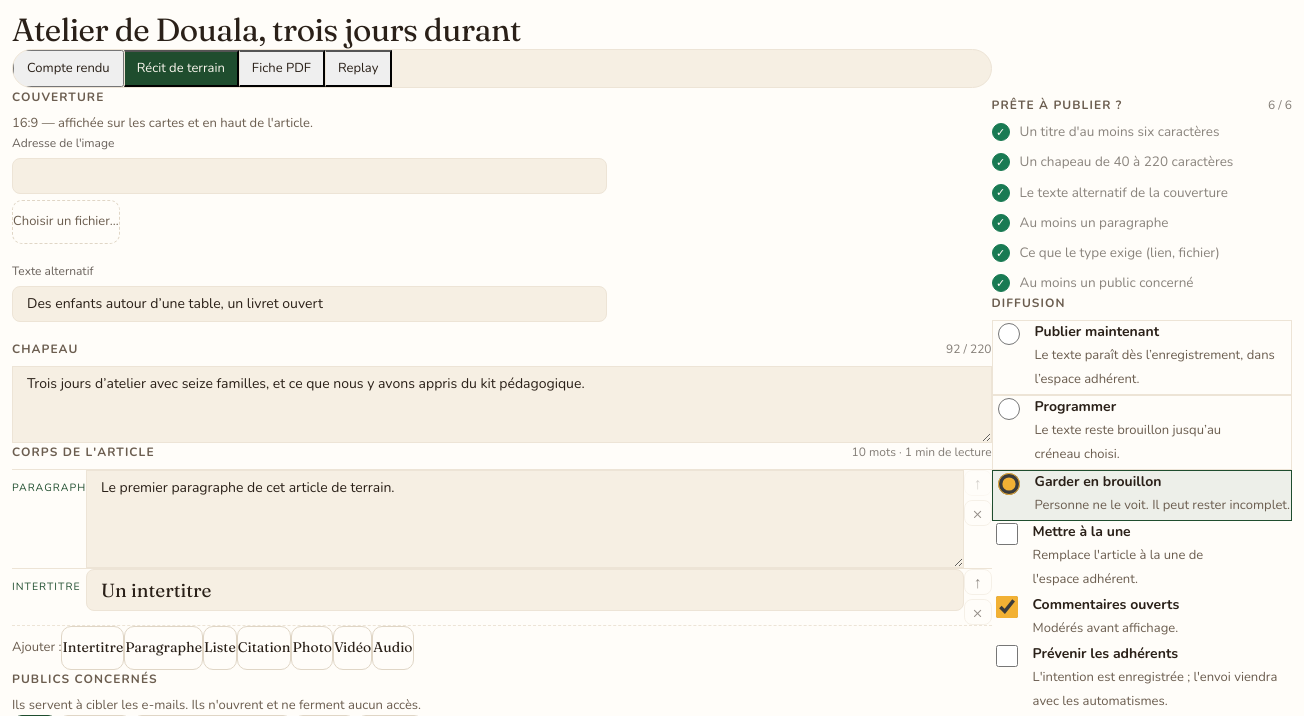
Test: les blocs du corps › SUPPRIME le bloc visé, et lui seul
What coordinates should you click on to do the following:
click the button named "Supprimer ce bloc"
I would click on:
 (978, 612)
Its box is x1=964 y1=599 x2=992 y2=625.
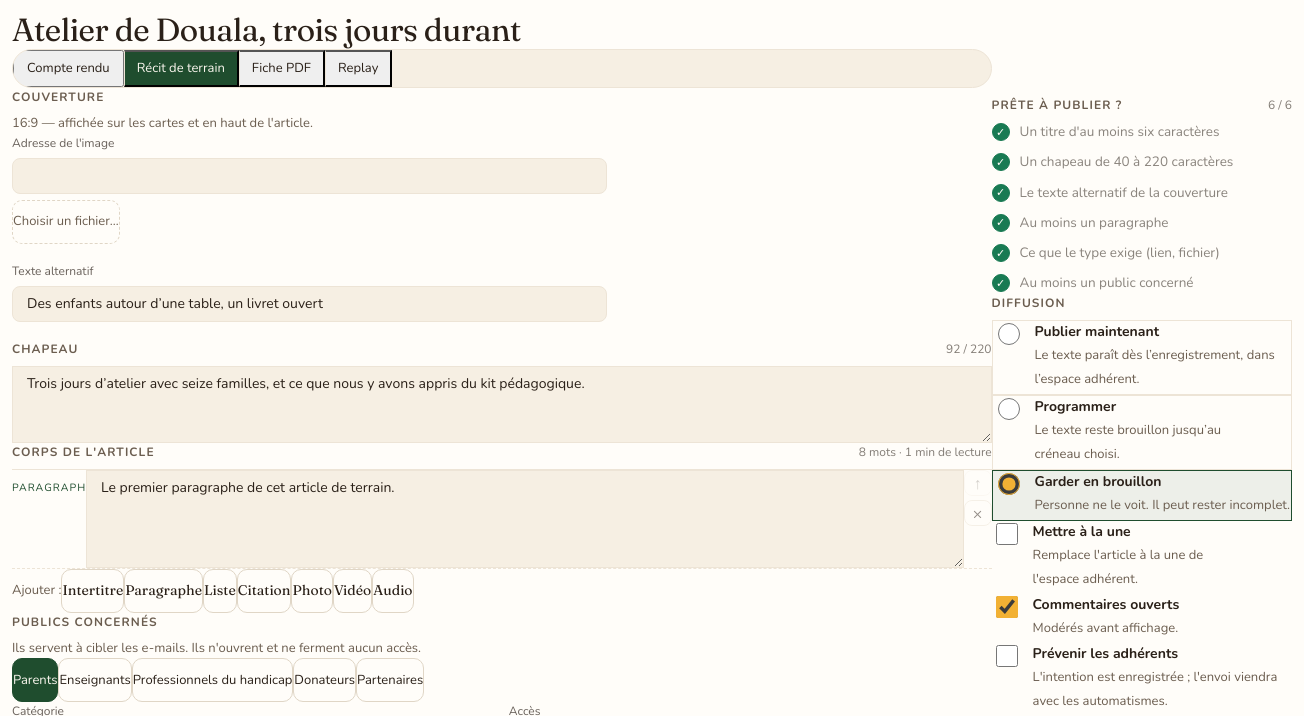
Now the number of buttons named "Supprimer ce bloc" is 1, box x1=964 y1=500 x2=992 y2=526
